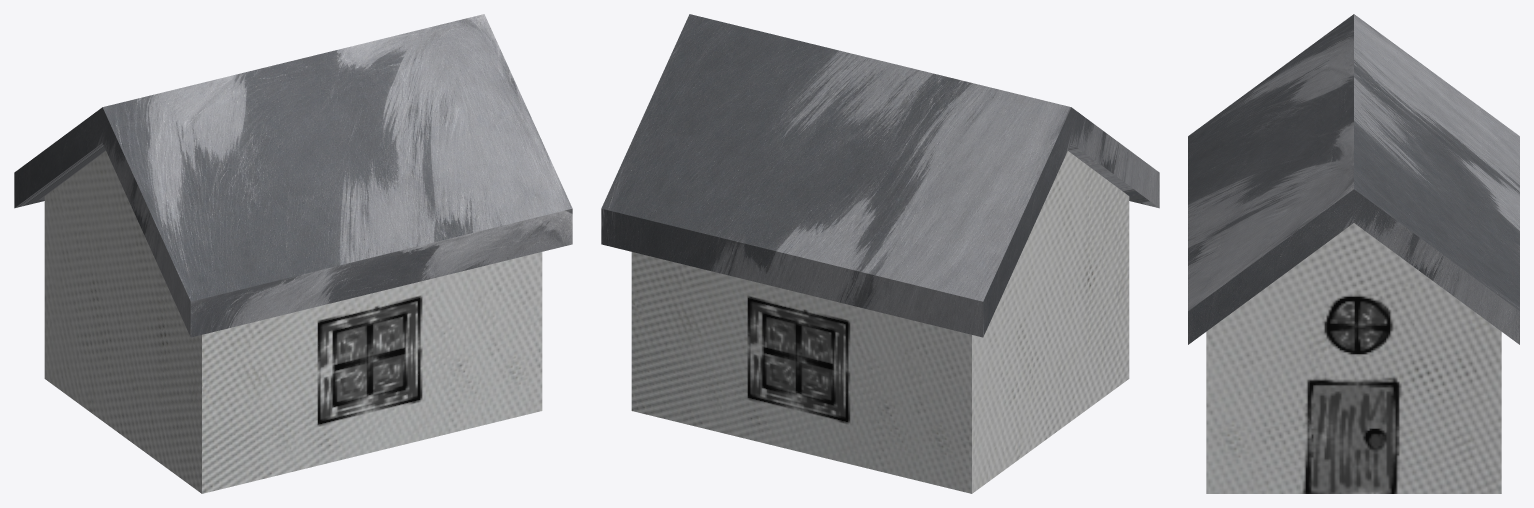
Rendered from Brinquedo2.fbx.
3 renders of one model, left to right at view 1: azimuth 30°, elevation 25°; view 2: azimuth 150°, elevation 25°; view 3: azimuth 270°, elevation 25°, orthographic. The views are drawn at different scales.
Visible parts, largest first — view 1: Cube.002, Cube; view 2: Cube.002, Cube; view 3: Cube.002, Cube.
Boxes of the visible parts, box(x1,y1,x2,y2) form: Cube.002: box(14, 14, 572, 337); Cube: box(44, 151, 542, 493); Cube.002: box(601, 14, 1159, 337); Cube: box(631, 151, 1129, 493); Cube.002: box(1188, 14, 1519, 344); Cube: box(1206, 223, 1501, 493).
Bounding box in the file's own units: 437 × 366 × 350.
Materials: 2 (2 with a texture image).
